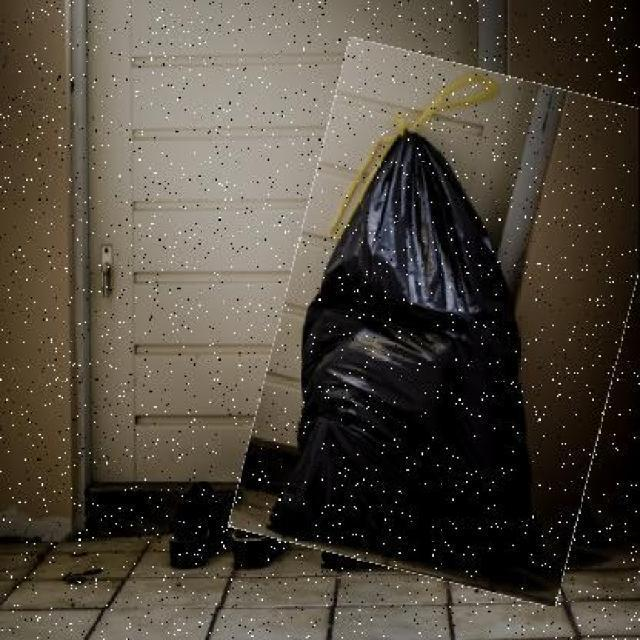KantongPlastik: (287, 104, 551, 586)
